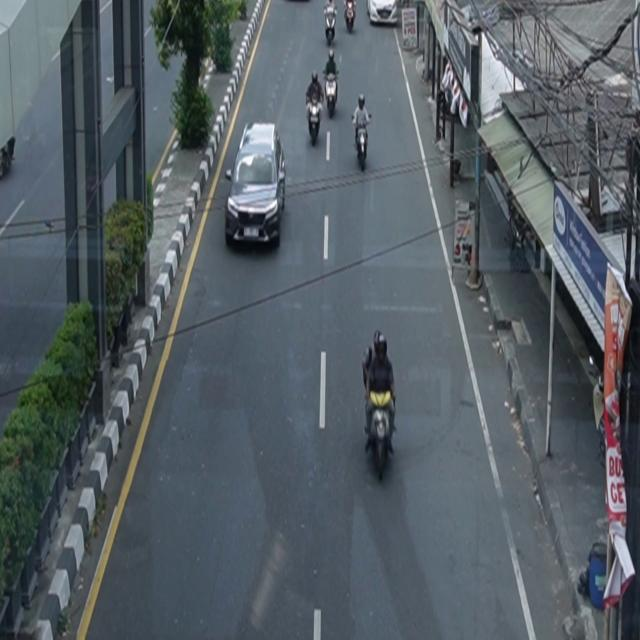car: (225, 121, 287, 249)
